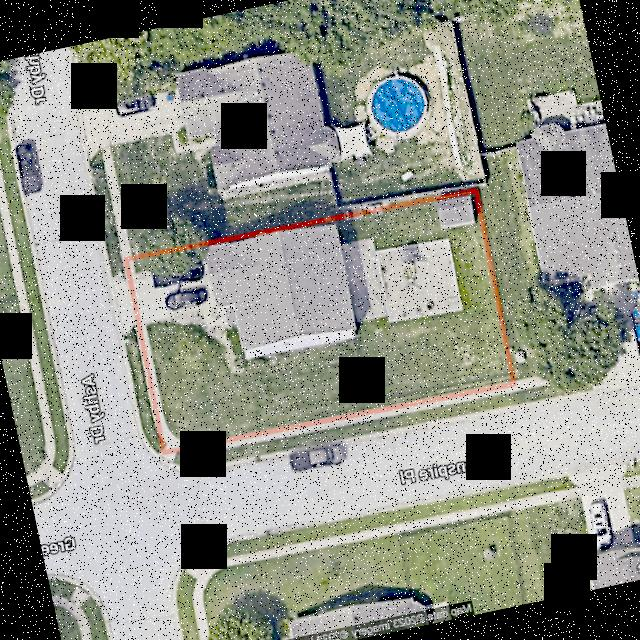Driveway: (131, 258, 226, 333)
Extra Driveway: (111, 272, 136, 336)
Extra Lawn: (171, 390, 520, 468), (124, 324, 161, 453), (109, 257, 126, 277)
Extra Sidewalk: (181, 385, 517, 454), (162, 452, 176, 460)
House: (204, 225, 355, 357)
Other: (341, 237, 462, 322), (436, 195, 474, 227)
Sidewalk: (141, 323, 201, 449), (128, 260, 135, 273)
